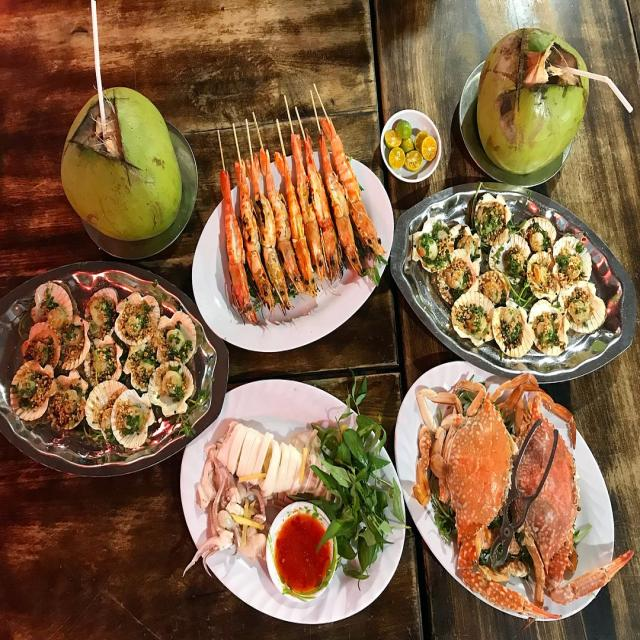ghe hap: (420, 388, 590, 606)
mam ngot: (276, 508, 329, 599)
muc hap: (218, 416, 321, 496), (193, 486, 266, 568)
nuoc dua: (461, 23, 634, 175), (44, 84, 188, 242)
rau ram: (332, 399, 397, 562)
seo nuong mo hanh: (413, 207, 612, 359), (17, 292, 195, 460)
tom nuong: (209, 130, 375, 313)
